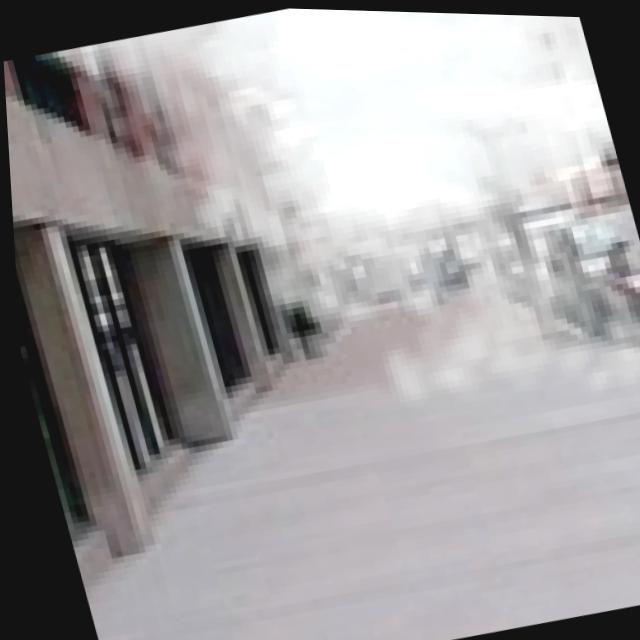smoke: (0, 0, 640, 531)
